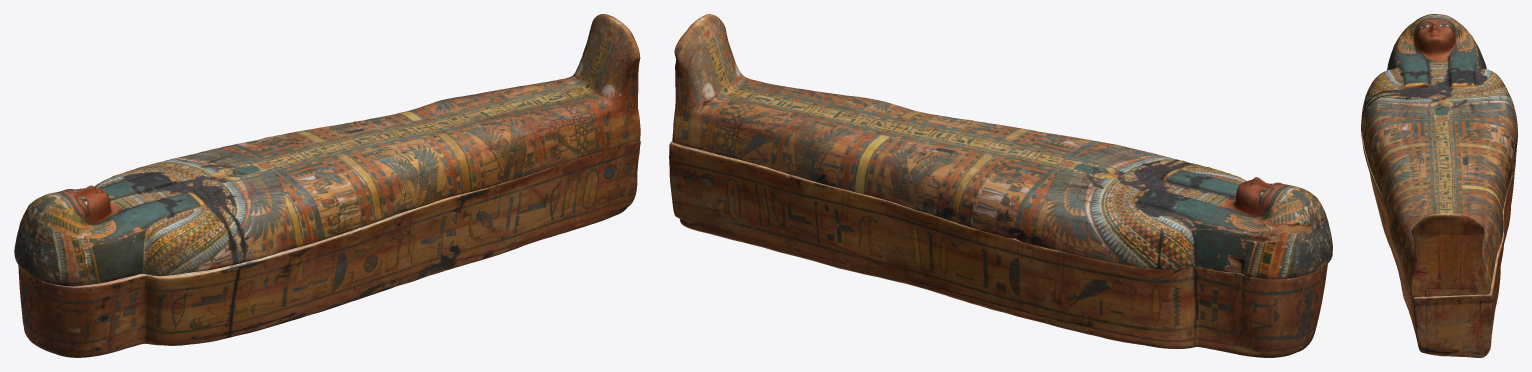
Rendered from coffin.glb.
3 renders of one model, left to right at view 1: azimuth 30°, elevation 25°; view 2: azimuth 150°, elevation 25°; view 3: azimuth 270°, elevation 25°, orthographic. The views are drawn at different scales.
Visible parts, largest first — view 1: Ankh-Khonsu_Top_LD_Material #26_0, Ankh-Khonsu_Bottom_LD_Material #25_0; view 2: Ankh-Khonsu_Top_LD_Material #26_0, Ankh-Khonsu_Bottom_LD_Material #25_0; view 3: Ankh-Khonsu_Top_LD_Material #26_0, Ankh-Khonsu_Bottom_LD_Material #25_0.
Boxes of the visible parts, left/top/right/bottom form: Ankh-Khonsu_Top_LD_Material #26_0: left=14, top=14, right=640, bottom=286; Ankh-Khonsu_Bottom_LD_Material #25_0: left=18, top=140, right=640, bottom=357; Ankh-Khonsu_Top_LD_Material #26_0: left=672, top=14, right=1332, bottom=279; Ankh-Khonsu_Bottom_LD_Material #25_0: left=669, top=141, right=1327, bottom=357; Ankh-Khonsu_Top_LD_Material #26_0: left=1361, top=14, right=1517, bottom=297; Ankh-Khonsu_Bottom_LD_Material #25_0: left=1361, top=120, right=1516, bottom=357.
Size of the model in its own units: 1.88 by 0.5394 by 0.5237.
2 materials, 2 textured.
